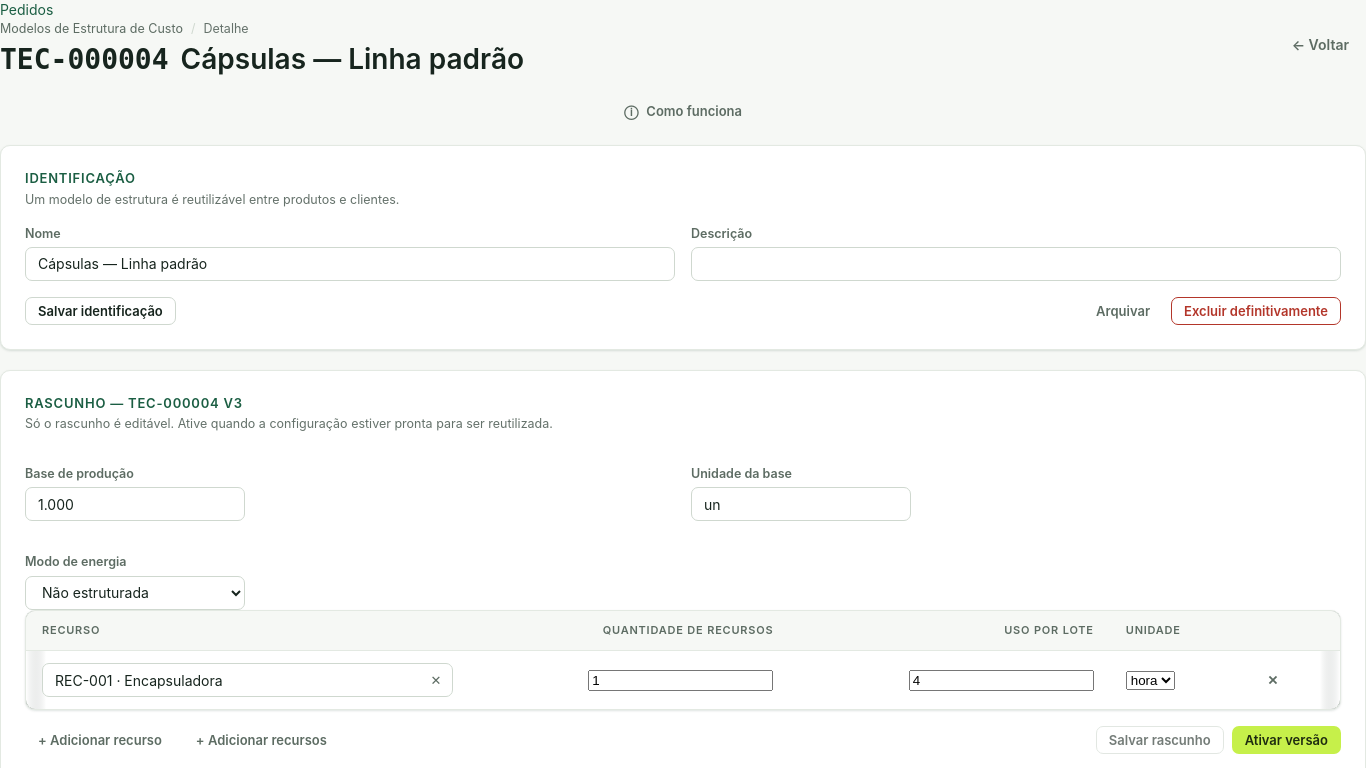
Test: Modelo de Estrutura de Custo — guarda de alterações não salvas › alterar a base do rascunho pergunta antes de sair
The image size is (1366, 768).
Step 1. Replace the text in the field labelled "Base de produção" with "2000" → (135, 504), box [25,487,245,521]
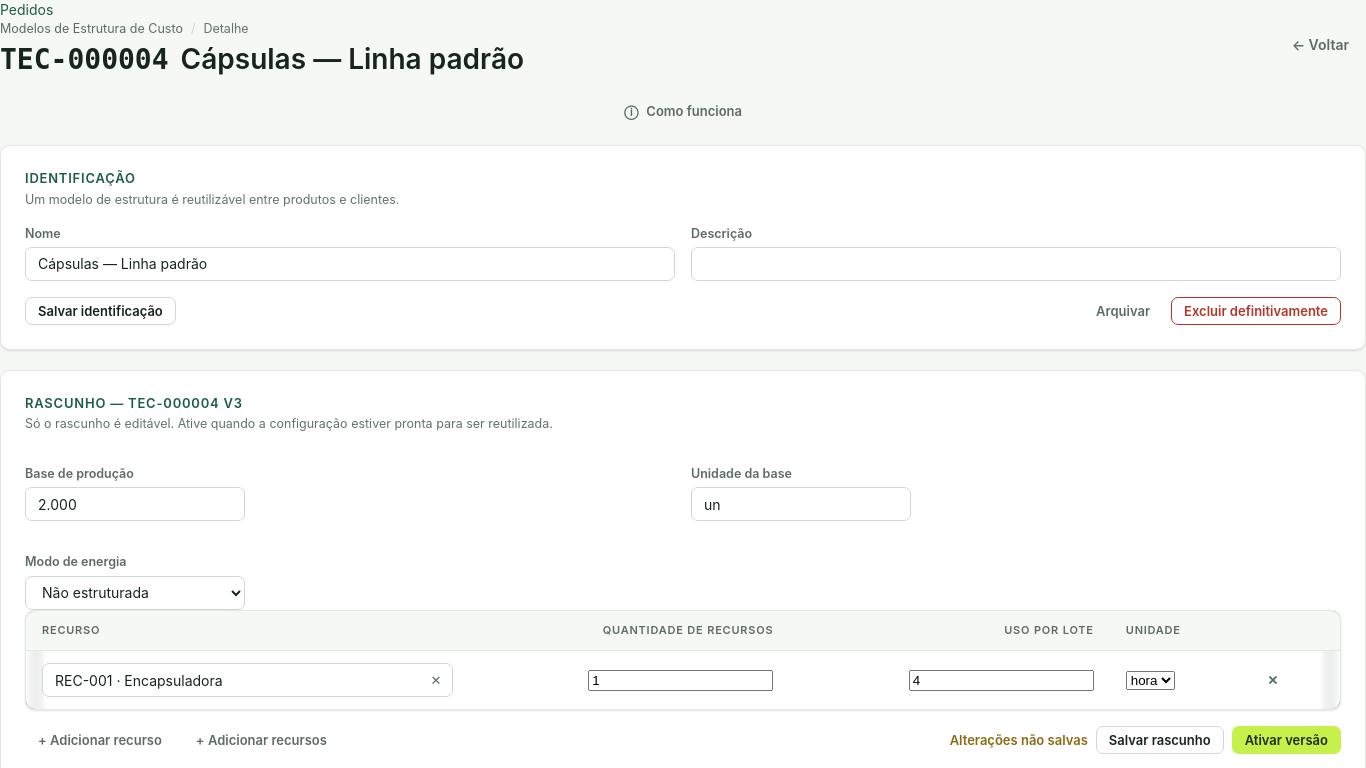
Step 2. Click the link "Pedidos" → (27, 10), box [0,1,53,18]
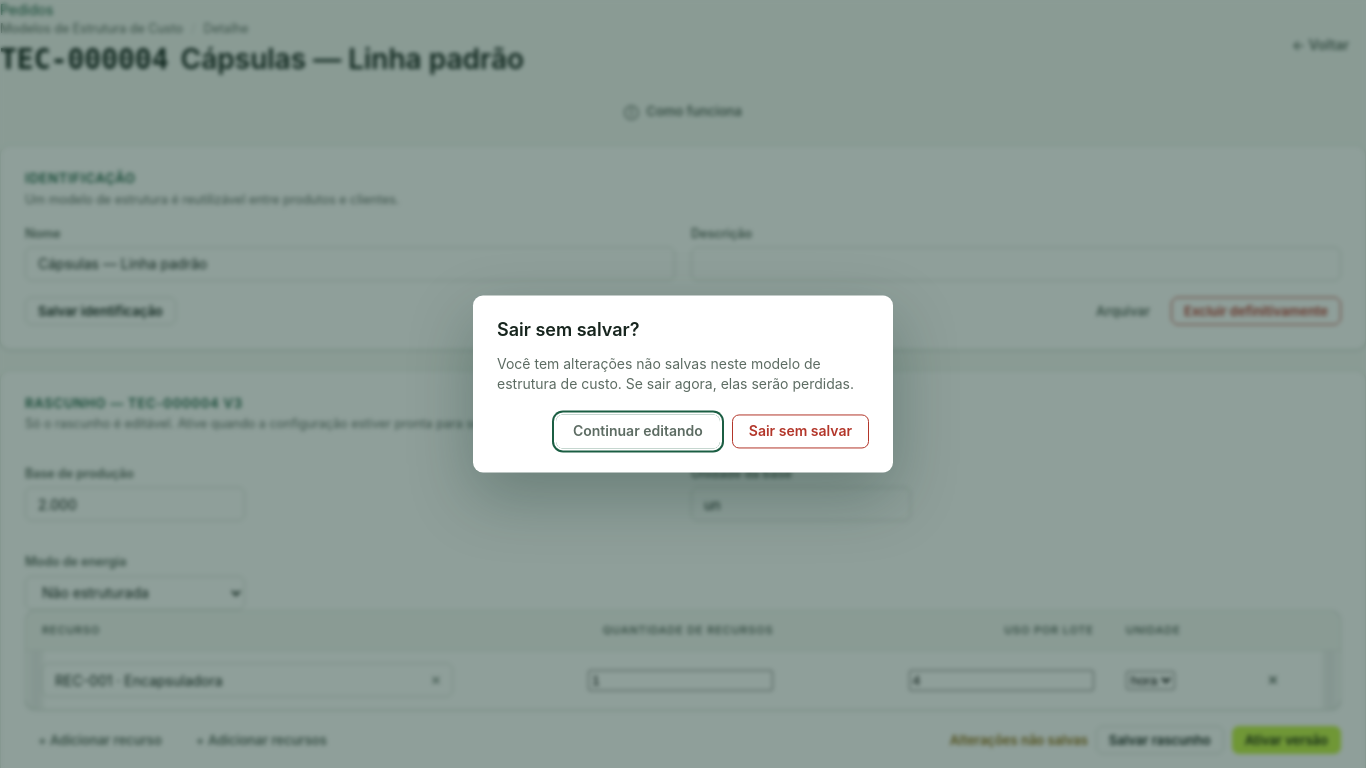
Check: the heading "Sair sem salvar?" is shown, box [497,320,640,340]
Check: the text "alterações não salvas neste modelo de estrutura de custo" is shown, box [497,354,869,395]
